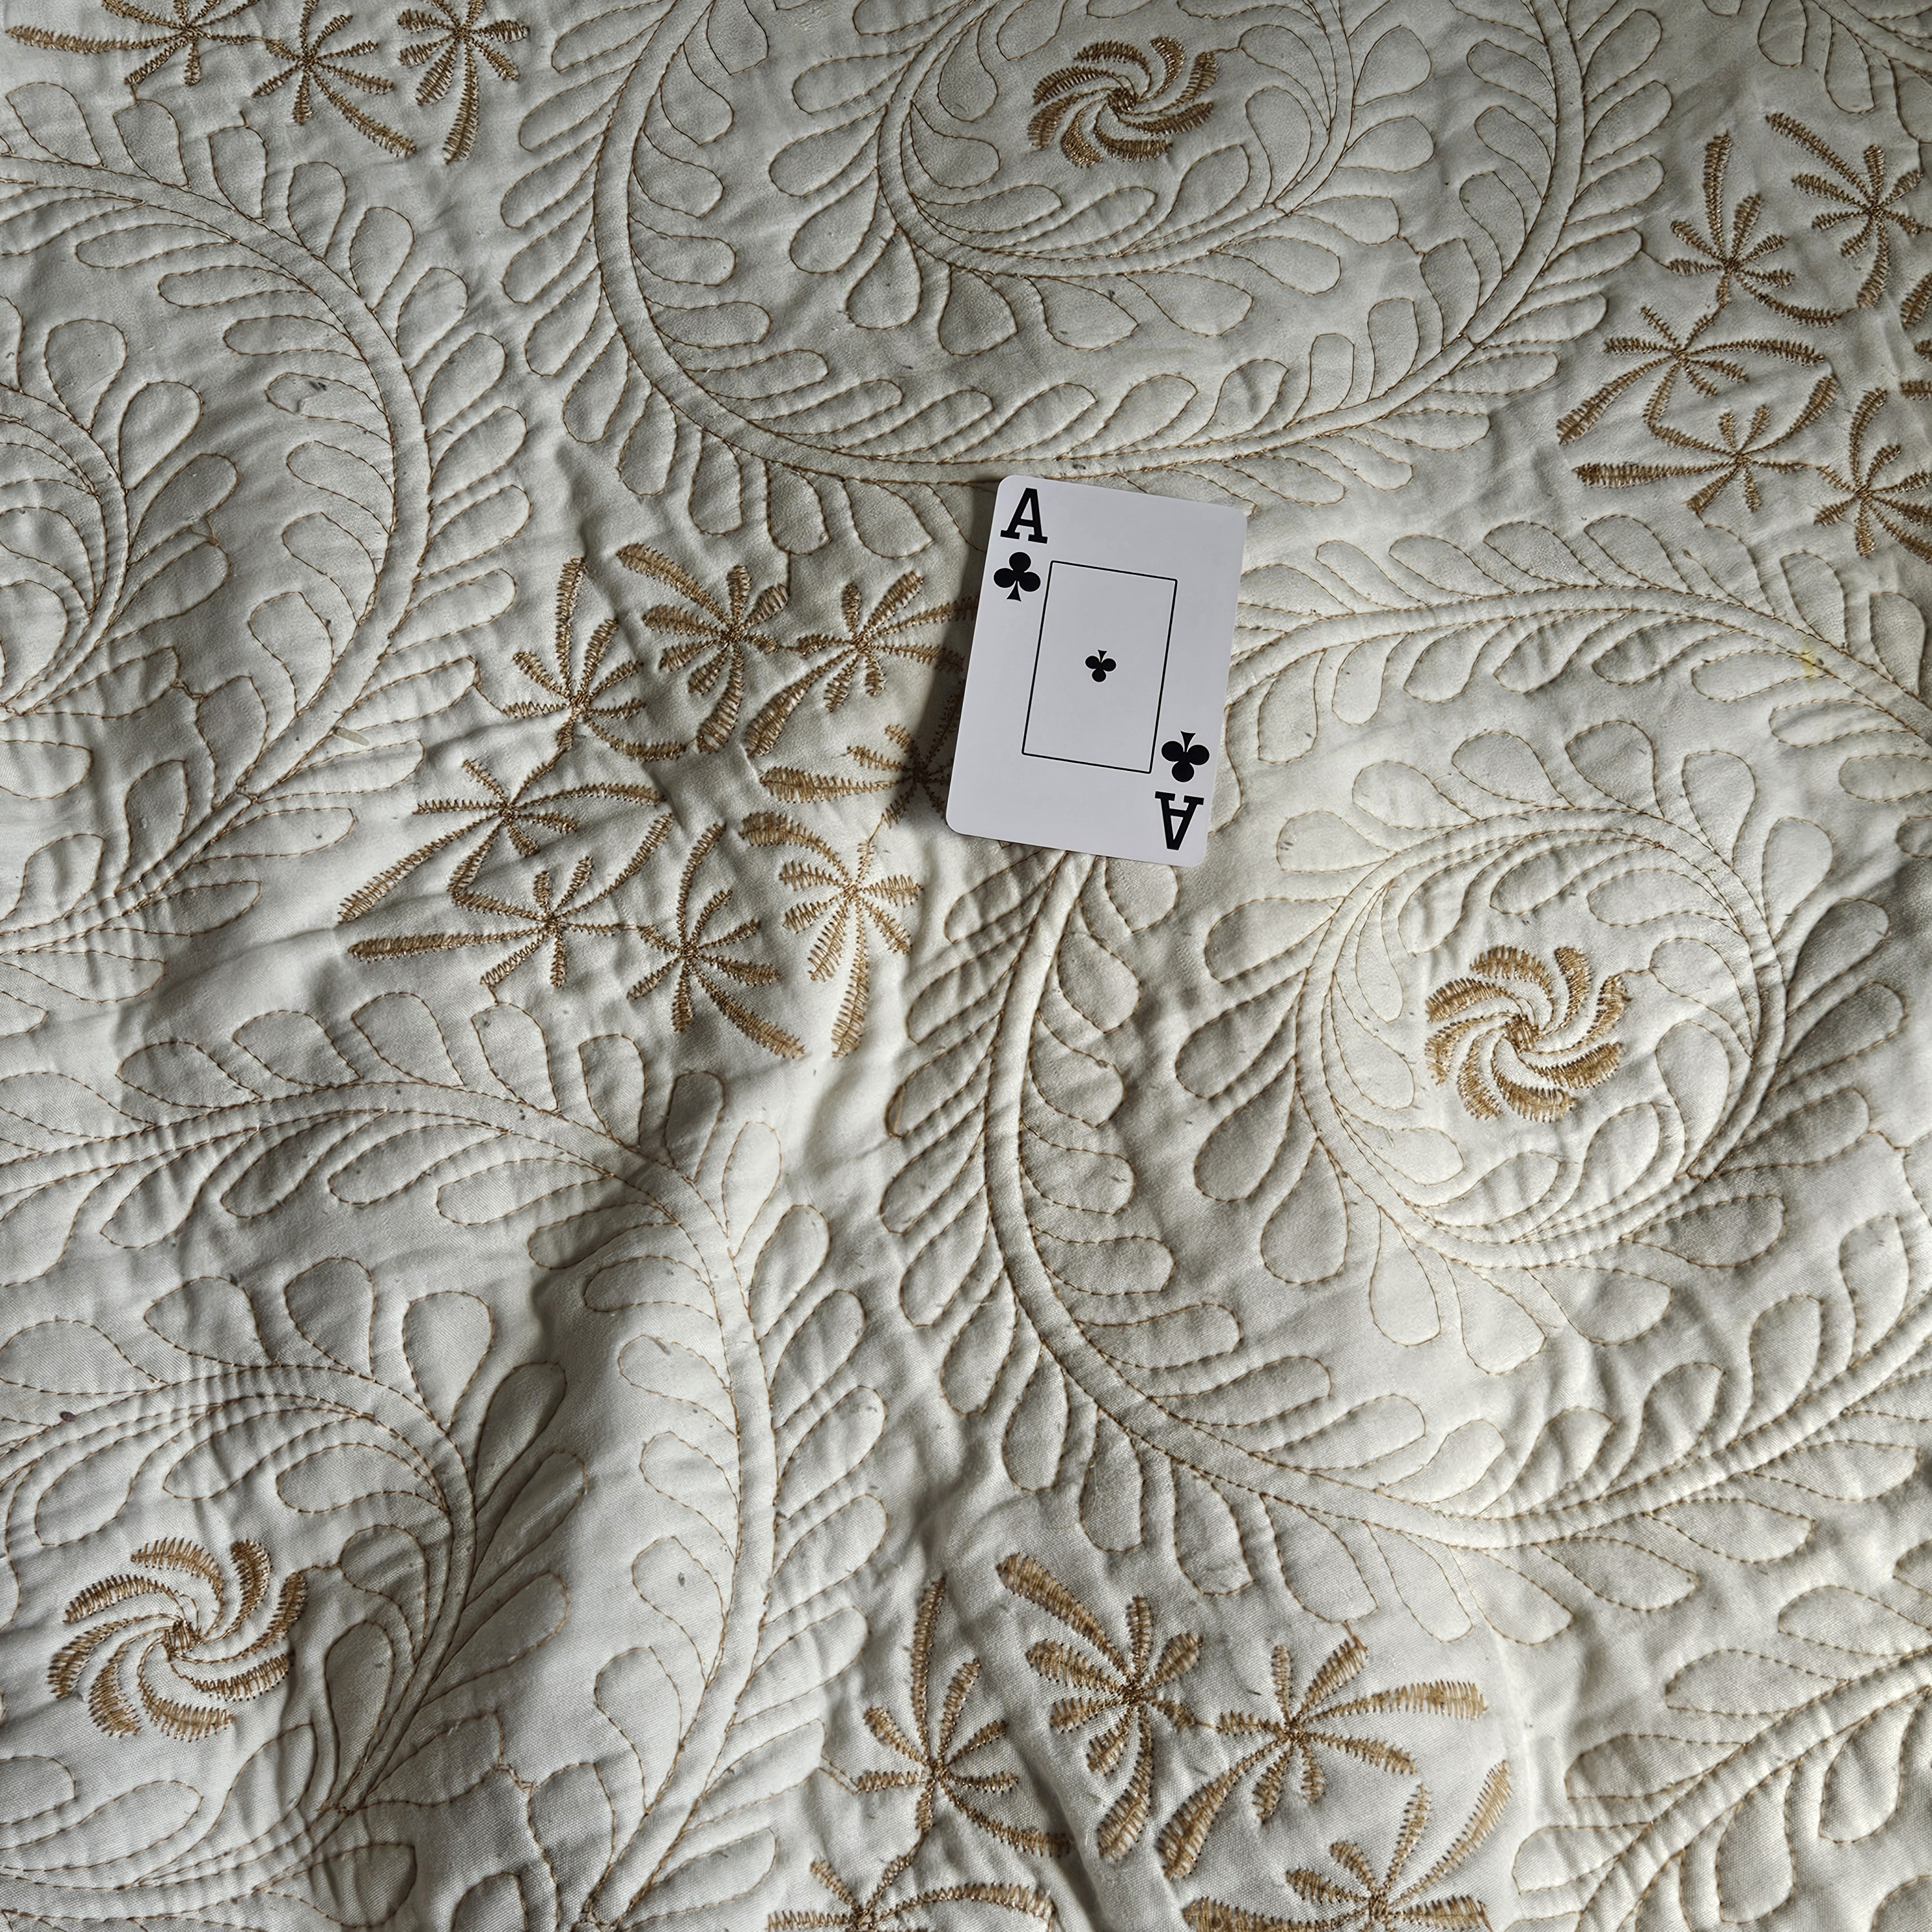AP: (982, 479, 1060, 612), (1143, 718, 1217, 856)
